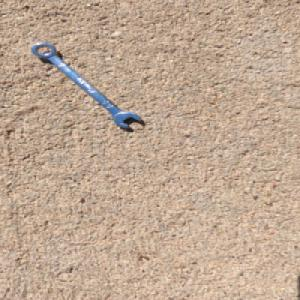Wrench: (30, 41, 143, 129)
